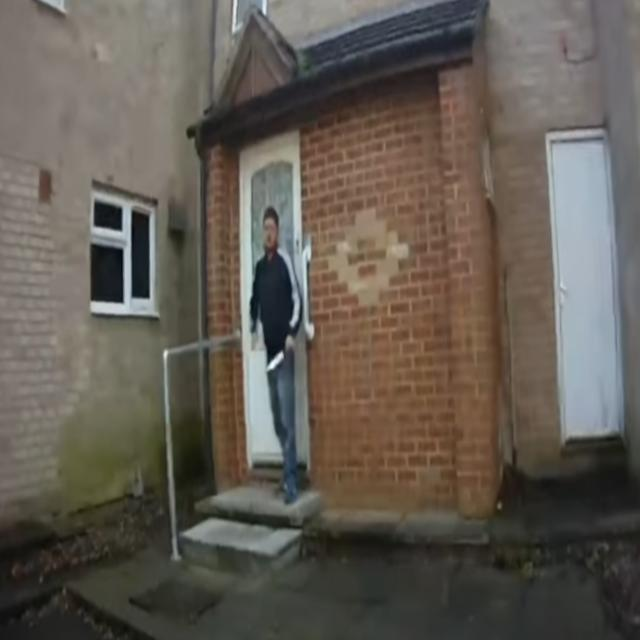Knife_Handle: (266, 335, 295, 374)
